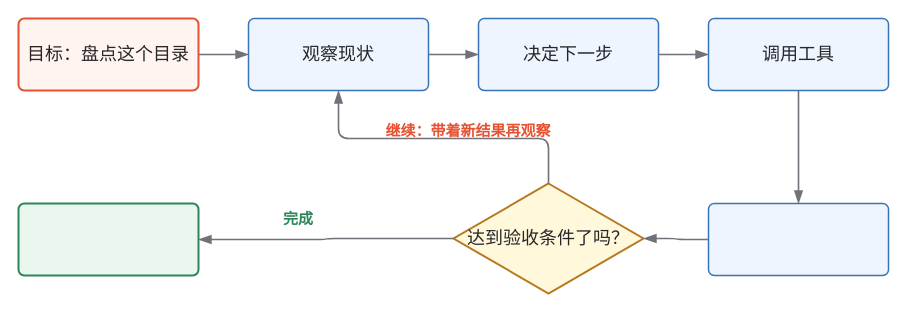
Image size: 906x311. Some labels were removed from this diagram. The shapes that lost their labels are listed below. From the top down, each one's centre as x and y in pixels, then its label:
At (x=108, y=239): "完成，交付结果".
At (x=798, y=239): "读取真实结果".
